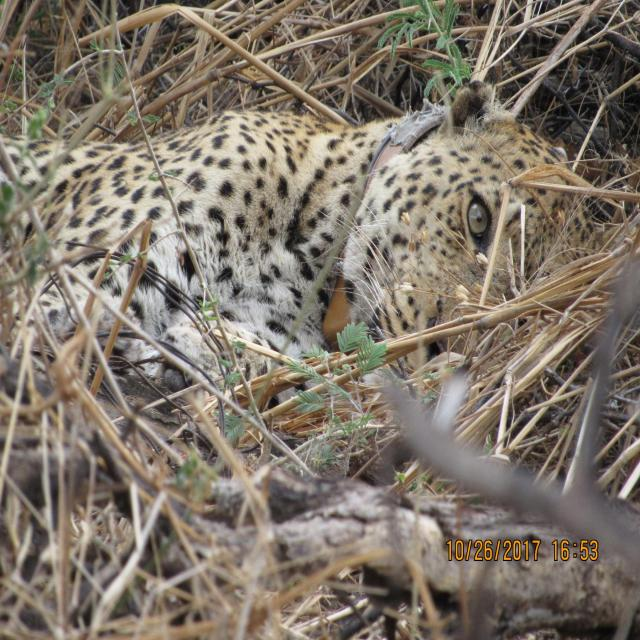Leopard: (0, 80, 610, 409)
